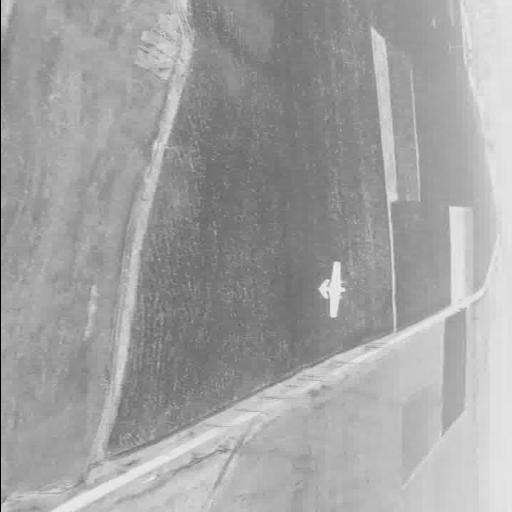uav: (311, 256, 349, 322)
